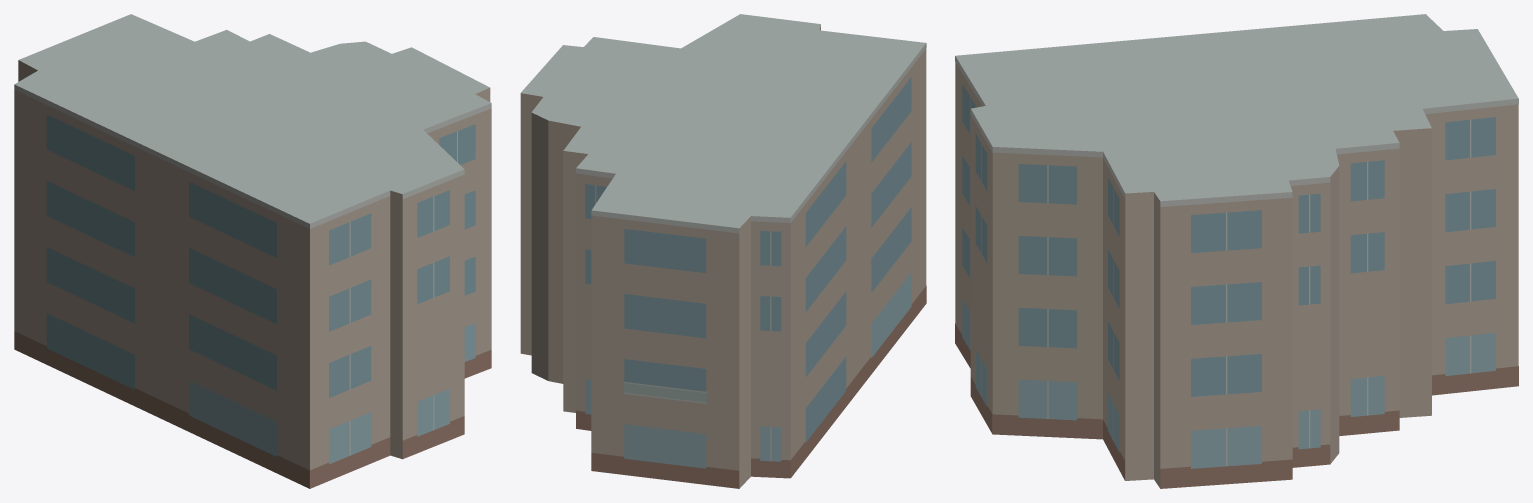
File: survey-upis-32657412.glb
3 renders of one model, left to right at view 1: azimuth 30°, elevation 25°; view 2: azimuth 150°, elevation 25°; view 3: azimuth 270°, elevation 25°, orthographic. The views are drawn at different scales.
Visible parts, largest first — view 1: survey-upis-32657412.tmp; view 2: survey-upis-32657412.tmp; view 3: survey-upis-32657412.tmp.
Boxes of the visible parts, x1,y1,x2,y2 form: survey-upis-32657412.tmp: (14, 14, 491, 488); survey-upis-32657412.tmp: (520, 14, 926, 488); survey-upis-32657412.tmp: (955, 14, 1518, 488).
Size of the model in its own units: 17.19 by 12.3 by 21.86.
